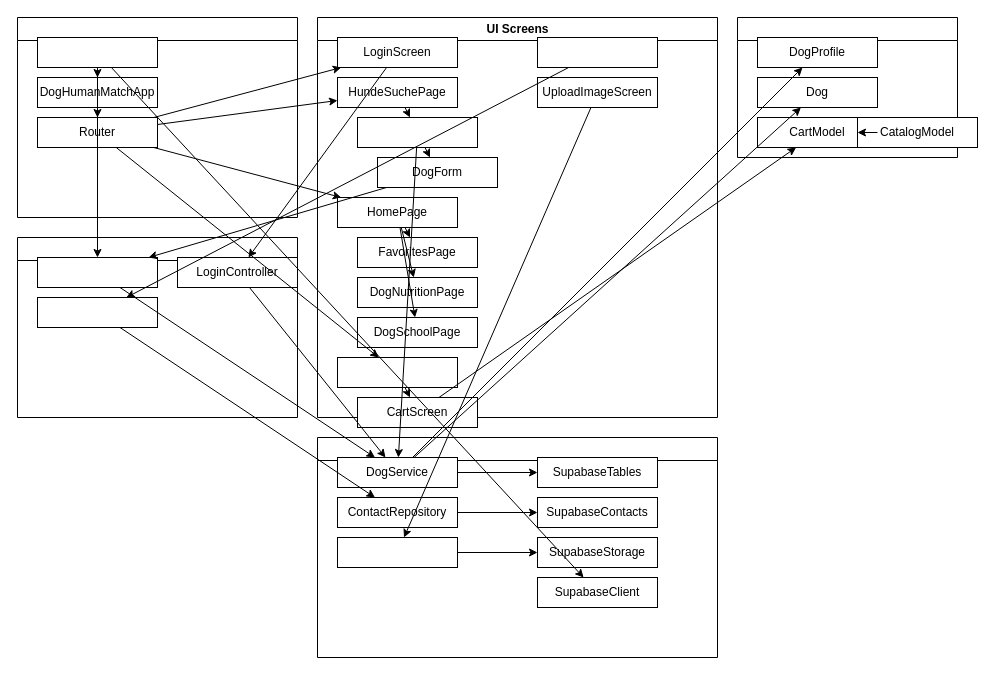
The diagram is 995 pixels wide and 675 high, and some of its shapes have lost their labels. Each missing label, with the box of its shape:
Business Layer: (16, 236, 298, 418)
Catalog: (336, 356, 458, 388)
ContactController: (36, 296, 158, 328)
ContactPage: (536, 36, 658, 68)
Data Layer: (316, 436, 718, 658)
DogListScreen: (356, 116, 478, 148)
DogProvider: (36, 256, 158, 288)
Flutter App: (16, 16, 298, 218)
ImageUploader: (336, 536, 458, 568)
Main: (36, 36, 158, 68)
Models: (736, 16, 958, 158)
